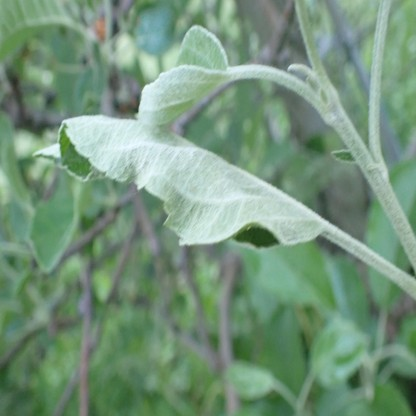powder: (31, 113, 326, 247), (136, 24, 230, 123)
